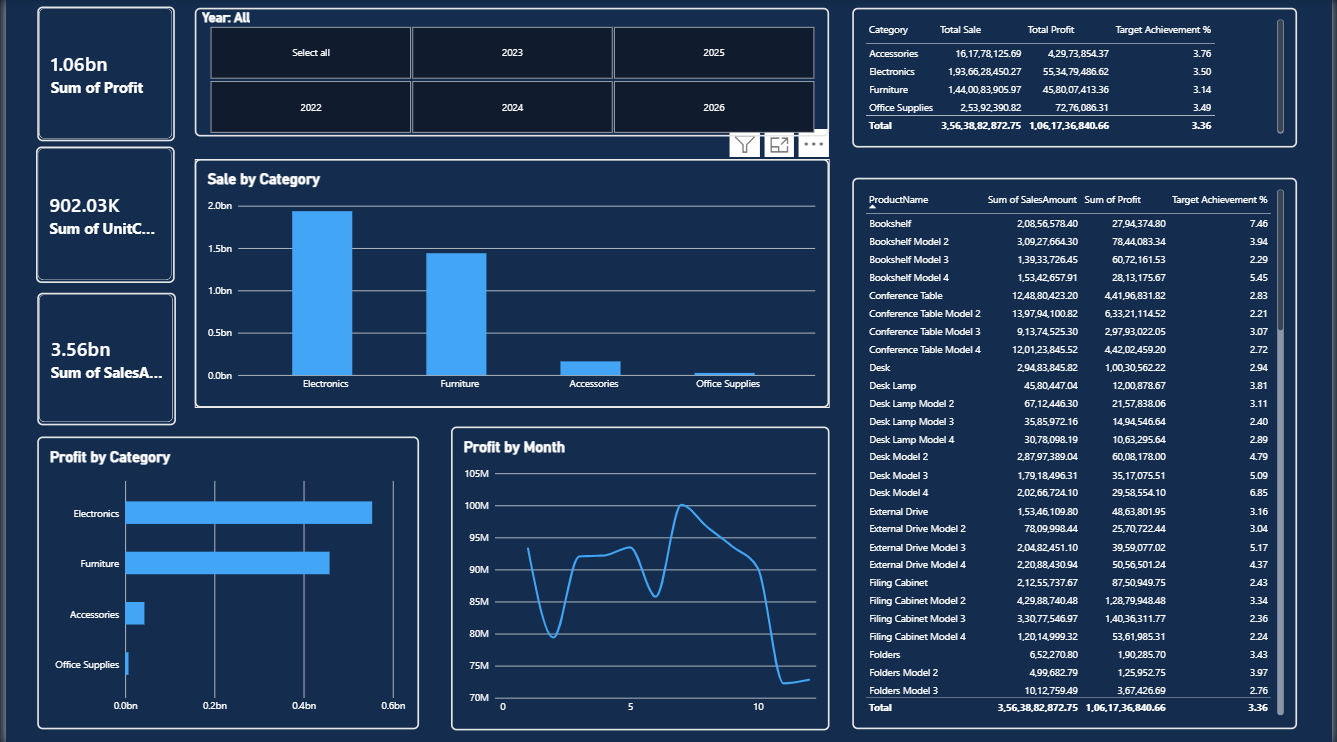

Layout of this report page (visuals, bound fields, positions):
{"tool":"powerbi","page":{"name":"Profitability Analysis","canvas":[1920,1080],"ordinal":1},"visuals":[{"type":"clusteredBarChart","title":"Profit by Category","fields":{"Category":["products.Category"],"Y":["customers.Total Profit"]},"box":[45,632.5,552.5,424.2],"z":0},{"type":"lineChart","title":"Profit by Month","fields":{"Category":["targets.Month"],"Y":["customers.Total Profit"]},"box":[644,618,548,440],"z":1000},{"type":"tableEx","fields":{"Values":["products.Category","customers.Total Sale","customers.Total Profit","customers.Target Achievement %"]},"box":[1226,12,644,202],"z":2000},{"type":"tableEx","fields":{"Values":["products.ProductName","Sum(sales.SalesAmount)","Sum(sales.Profit)","customers.Target Achievement %"]},"box":[1226,258,644,798],"z":3000},{"type":"cardVisual","fields":{"Data":["Sum(sales.Profit)"]},"box":[45.2,10.9,199.1,195.4],"z":4000},{"type":"lineStackedColumnComboChart","title":"Sale by Category","fields":{"Category":["products.Category"],"Y":["customers.Total Sale"]},"box":[274,232,918,360],"z":5000},{"type":"cardVisual","fields":{"Data":["Sum(products.UnitCost)"]},"box":[44,214,200.9,197.3],"z":6000},{"type":"cardVisual","fields":{"Data":["Sum(sales.SalesAmount)"]},"box":[45,425.8,200.9,191.8],"z":7000},{"type":"slicer","fields":{"Values":["targets.Year"]},"box":[274,12,918,186],"z":8000}]}

Visuals, with their boxes in screenshot pixels (x1, y1, x2, y2), scaled from the page's 1920x1080 canvas onto the 1337x742 screenshot:
"Profit by Category" clusteredBarChart: [31, 435, 416, 726]
"Profit by Month" lineChart: [448, 425, 830, 727]
tableEx - products.Category x customers.Total Sale: [854, 8, 1302, 147]
tableEx - products.ProductName x Sum(sales.SalesAmount): [854, 177, 1302, 726]
cardVisual - Sum(sales.Profit): [31, 7, 170, 142]
"Sale by Category" lineStackedColumnComboChart: [191, 159, 830, 407]
cardVisual - Sum(products.UnitCost): [31, 147, 171, 283]
cardVisual - Sum(sales.SalesAmount): [31, 293, 171, 424]
slicer - targets.Year: [191, 8, 830, 136]
